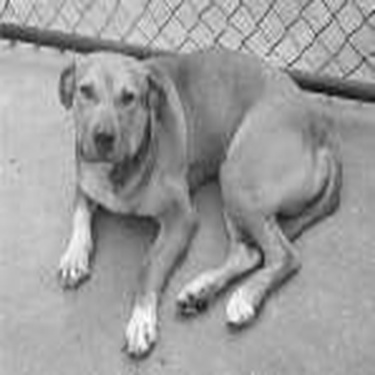dog: (40, 40, 353, 367)
